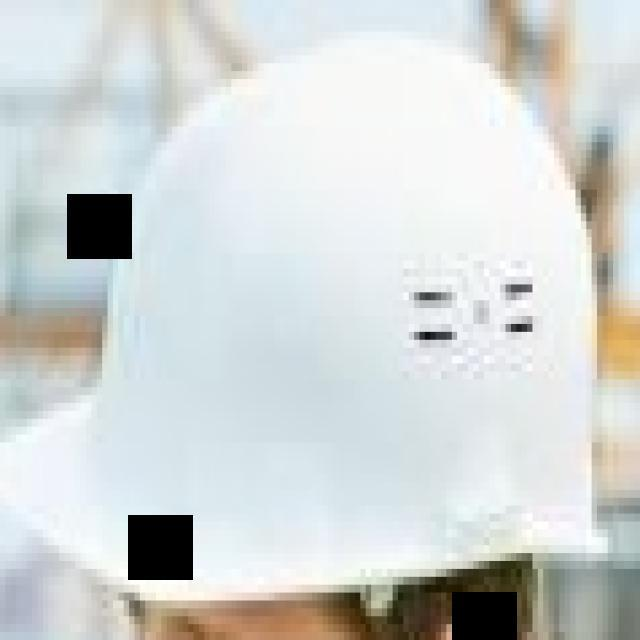white helmet: (64, 48, 603, 575)
